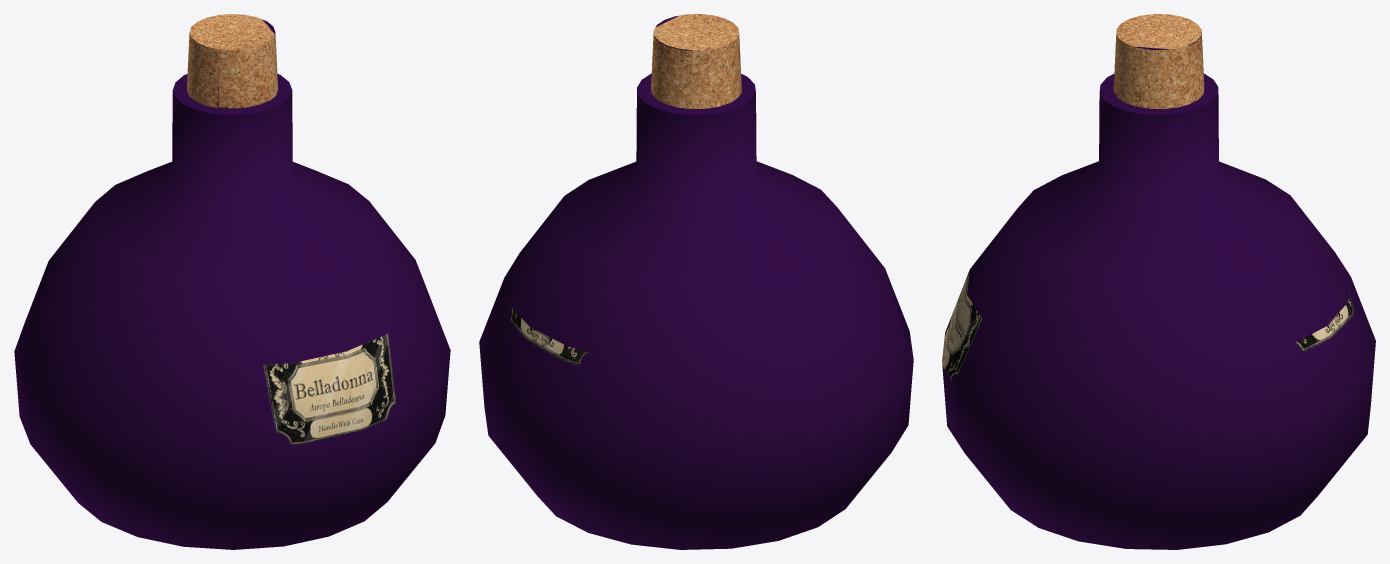
Rendered from Potion Bottle Purple.fbx.
The picture shows the model from 3 angles, left to right: view 1: azimuth 30°, elevation 25°; view 2: azimuth 150°, elevation 25°; view 3: azimuth 270°, elevation 25°; orthographic projection.
Parts seen in each view (by area): view 1: pCylinder9; view 2: pCylinder9; view 3: pCylinder9.
Boxes of the visible parts, bbox=[...] form: pCylinder9: bbox=[14, 14, 450, 549]; pCylinder9: bbox=[479, 14, 913, 549]; pCylinder9: bbox=[942, 14, 1375, 549].
Bounding box in the file's own units: 0.6808 × 0.8447 × 0.6808.
Materials: 1 (1 with a texture image).
